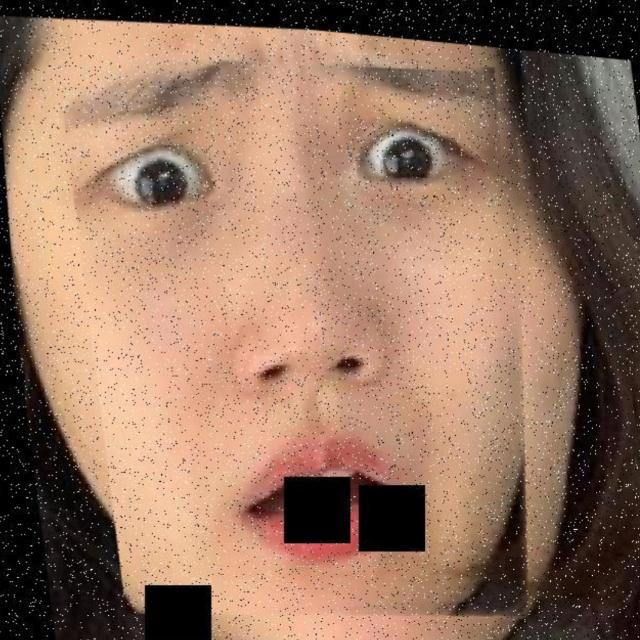Surprised: (55, 6, 517, 640)
